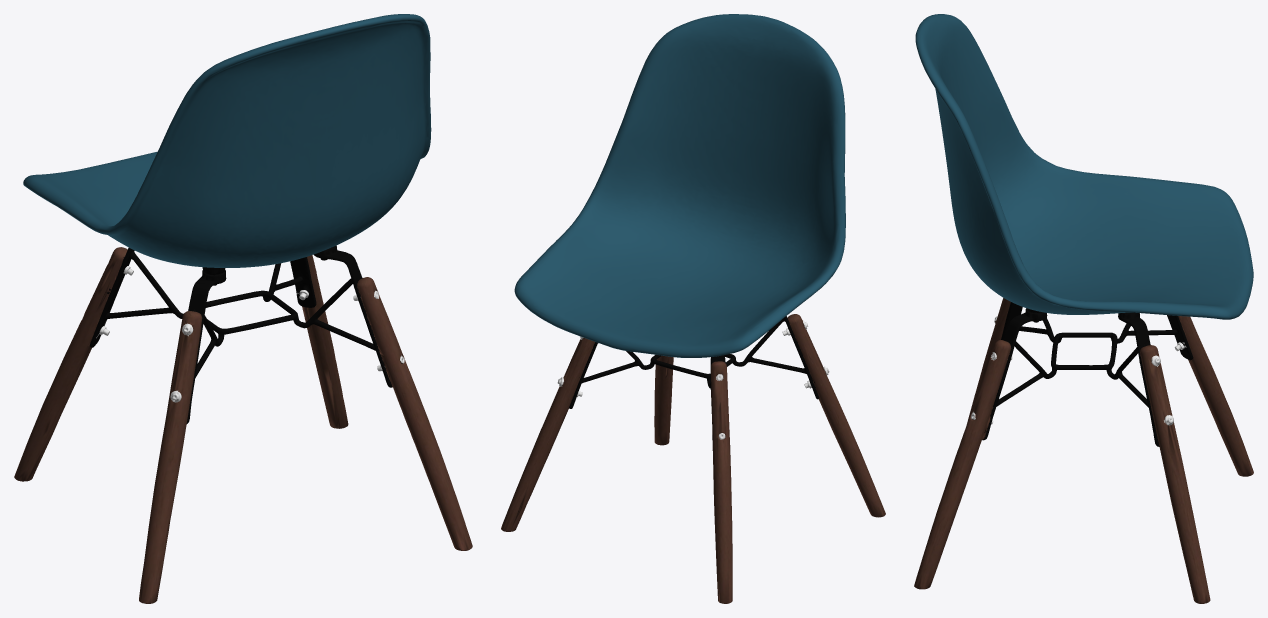
Rendered from ND-0607__Elon8.glb.
3 views of the same model, side by side, from view 1: azimuth 30°, elevation 25°; view 2: azimuth 150°, elevation 25°; view 3: azimuth 270°, elevation 25° (orthographic). The views are drawn at different scales.
Parts seen in each view (by area): view 1: tripo_node_aeb78299-7747-400a-b60e-9c411fa0cf6e, tripo_node_aeb78299-7747-400a-b60e-9c411fa0cf6e.001, tripo_node_aeb78299-7747-400a-b60e-9c411fa0cf6e.003; view 2: tripo_node_aeb78299-7747-400a-b60e-9c411fa0cf6e, tripo_node_aeb78299-7747-400a-b60e-9c411fa0cf6e.001, tripo_node_aeb78299-7747-400a-b60e-9c411fa0cf6e.003; view 3: tripo_node_aeb78299-7747-400a-b60e-9c411fa0cf6e, tripo_node_aeb78299-7747-400a-b60e-9c411fa0cf6e.001, tripo_node_aeb78299-7747-400a-b60e-9c411fa0cf6e.003.
Part boxes in pixels (x1,y1,x2,y2): tripo_node_aeb78299-7747-400a-b60e-9c411fa0cf6e: [23, 14, 431, 267]; tripo_node_aeb78299-7747-400a-b60e-9c411fa0cf6e.001: [14, 247, 472, 603]; tripo_node_aeb78299-7747-400a-b60e-9c411fa0cf6e.003: [89, 245, 392, 423]; tripo_node_aeb78299-7747-400a-b60e-9c411fa0cf6e: [514, 14, 845, 357]; tripo_node_aeb78299-7747-400a-b60e-9c411fa0cf6e.001: [501, 314, 885, 603]; tripo_node_aeb78299-7747-400a-b60e-9c411fa0cf6e.003: [569, 316, 819, 450]; tripo_node_aeb78299-7747-400a-b60e-9c411fa0cf6e: [915, 14, 1253, 319]; tripo_node_aeb78299-7747-400a-b60e-9c411fa0cf6e.001: [914, 298, 1253, 603]; tripo_node_aeb78299-7747-400a-b60e-9c411fa0cf6e.003: [982, 302, 1193, 446].
Bounding box in the file's own units: 0.6284 × 0.9794 × 0.61.
10 materials, 2 textured.
